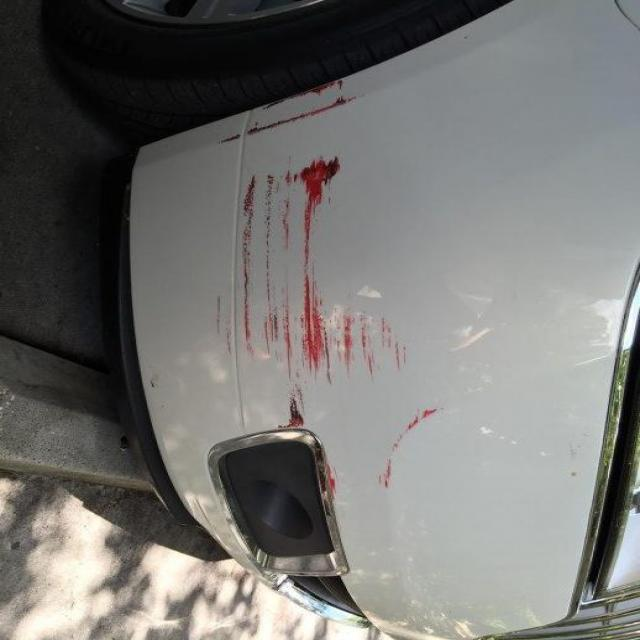scratch: (198, 72, 474, 546)
